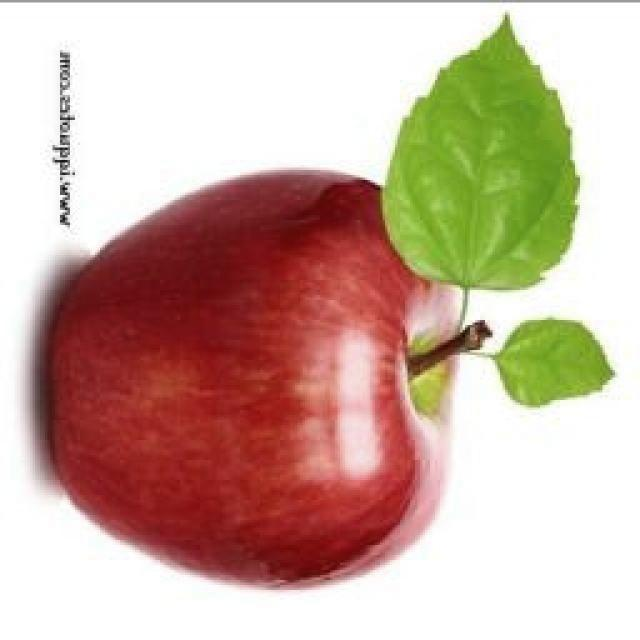Apple: (50, 171, 428, 581)
